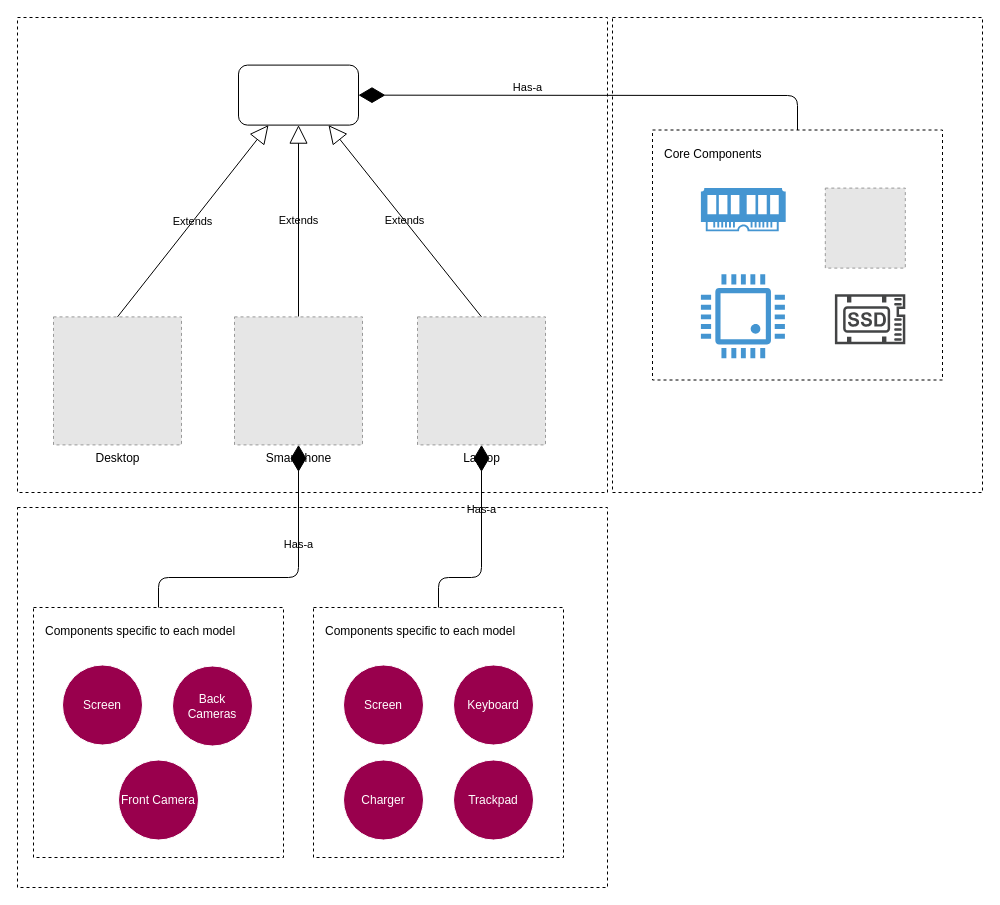
This 1000x905 diagram has some shape labels left out. Grey dashed boxes stand in for pictures. The shapes that lost their labels are listed below. From the top down, each one's box as (x1, y1, x2, y2) in pixels, then its label:
(238, 64, 358, 125): Computer
(16, 16, 608, 492): Is-a relationship
(612, 16, 982, 492): Has-a relationship - Aggregation
(16, 506, 608, 888): Has-a relationship - Composition
